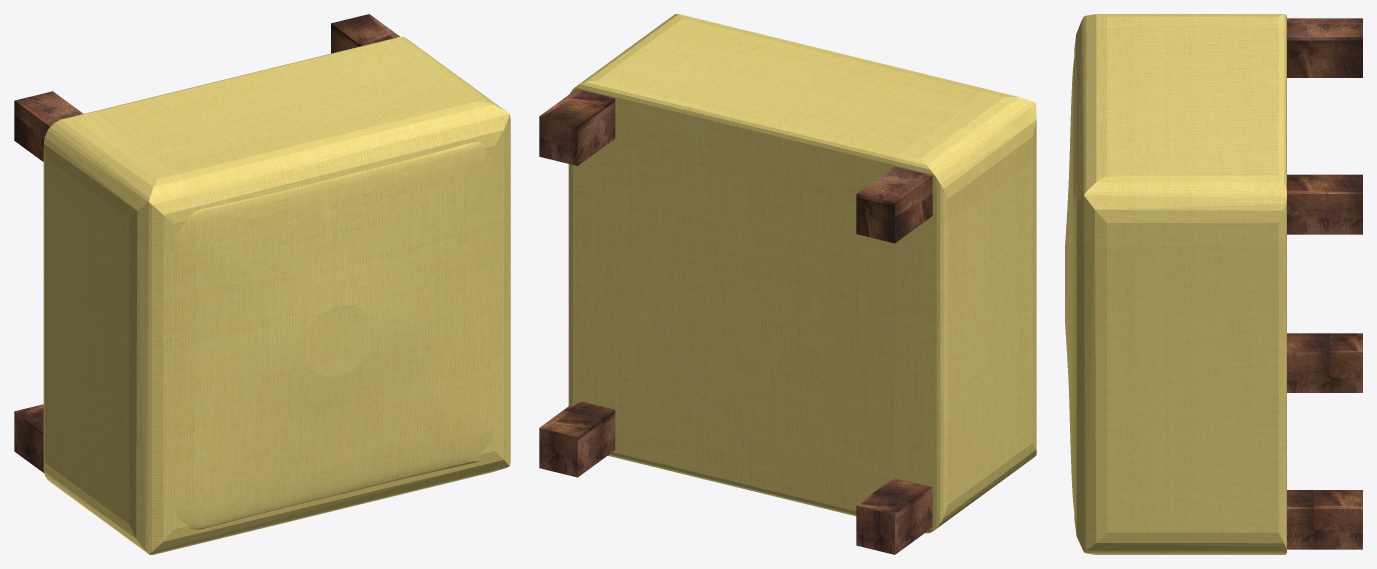
File: foot stool 7.20.fbx
3 renders of one model, left to right at view 1: azimuth 30°, elevation 25°; view 2: azimuth 150°, elevation 25°; view 3: azimuth 270°, elevation 25°, orthographic.
Visible parts, largest first — view 1: foot stool cushion, foot stool feet; view 2: foot stool cushion, foot stool feet; view 3: foot stool cushion, foot stool feet.
Part boxes in pixels (bbox=[...]): foot stool cushion: bbox=[43, 36, 510, 554]; foot stool feet: bbox=[14, 14, 399, 472]; foot stool cushion: bbox=[568, 14, 1036, 533]; foot stool feet: bbox=[539, 89, 932, 554]; foot stool cushion: bbox=[1065, 14, 1286, 554]; foot stool feet: bbox=[1287, 18, 1362, 549].
Bounding box in the file's own units: 27 × 25.4 × 18.2.
